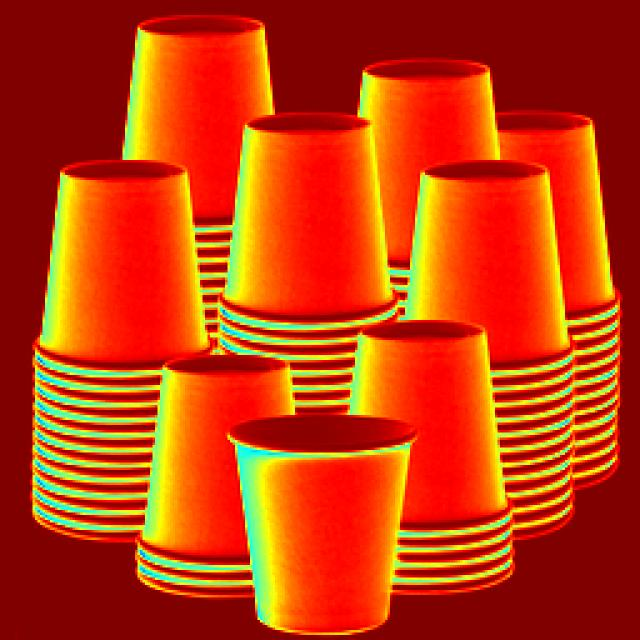Paper Cups: (225, 378, 413, 638), (35, 146, 211, 388), (364, 313, 533, 554), (416, 155, 564, 429), (230, 109, 380, 357), (152, 339, 291, 594), (133, 20, 275, 212), (356, 52, 508, 210)
